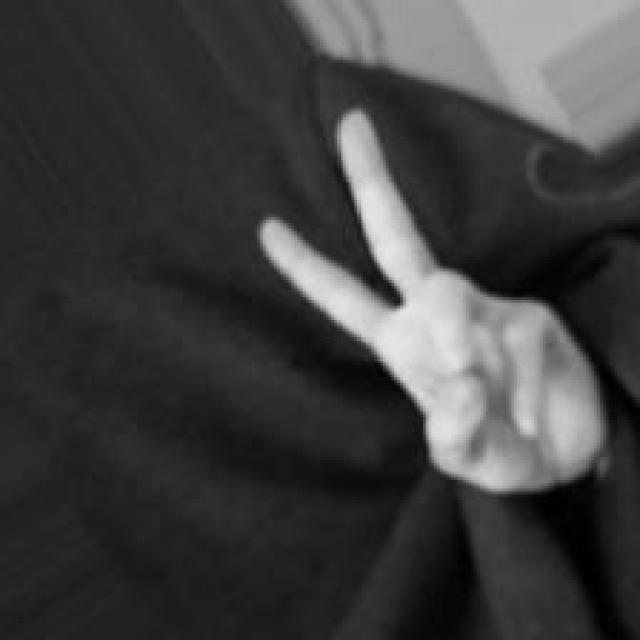V: (256, 108, 609, 495)
